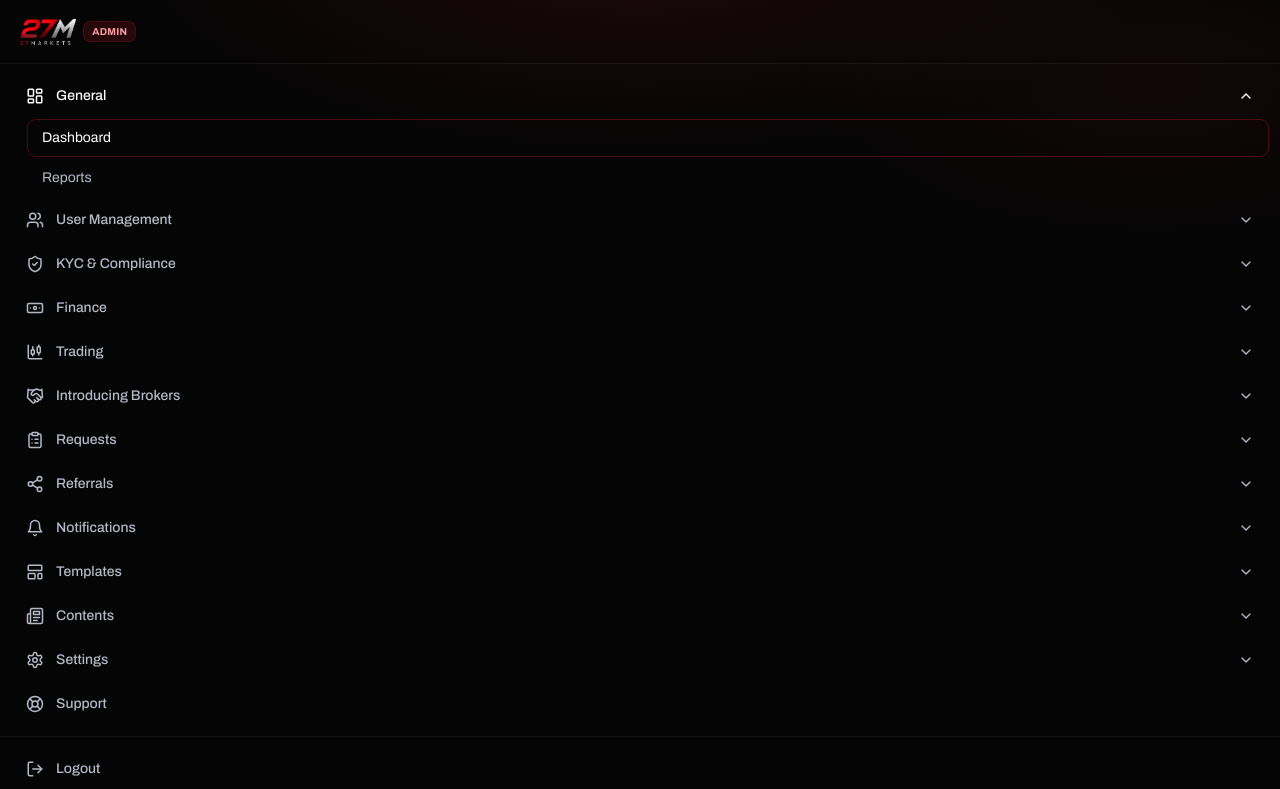
Test case: AdminSidebarContent › toggles a group open and closed on header click
The width and height of the screenshot is (1280, 789).
Expected: the link "Transactions" is not shown
Click the button "Finance". click: x=81, y=308
box: [12,288,1268,328]
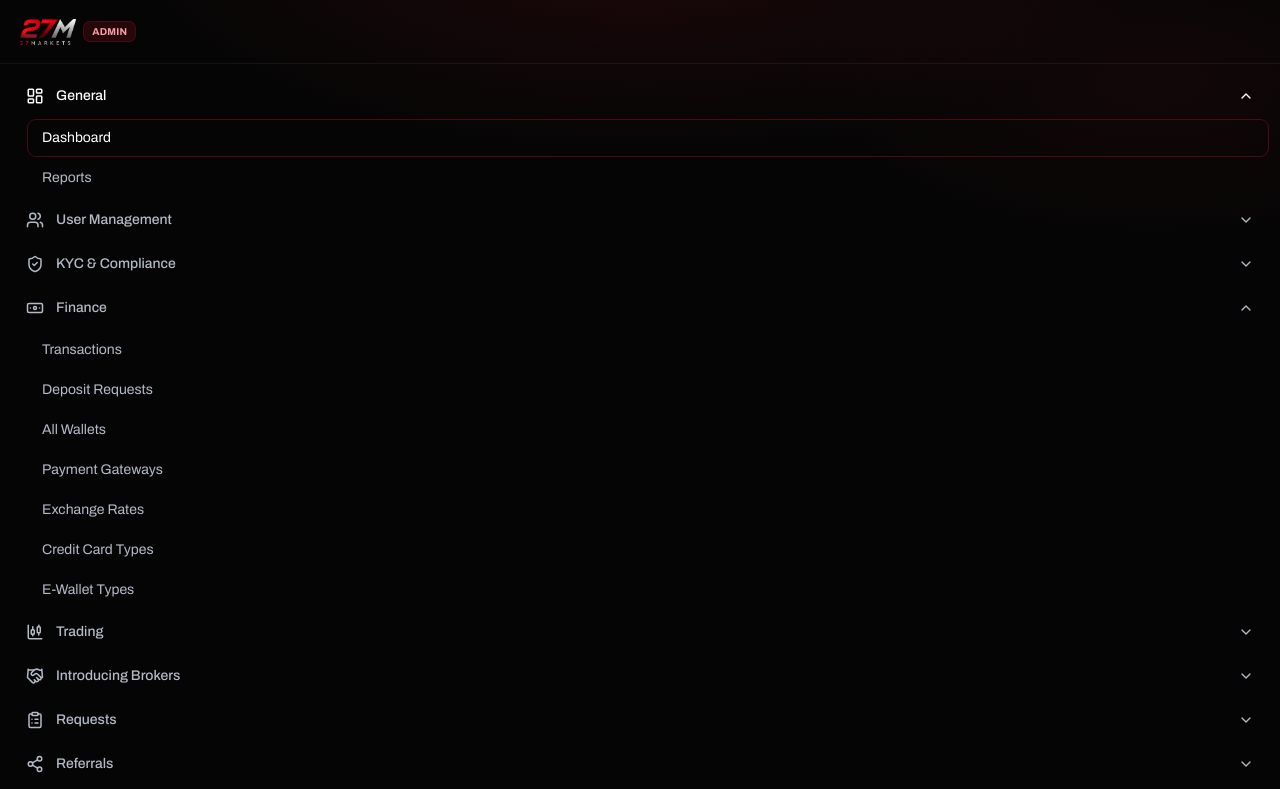
Now the link "Transactions" is shown, box [42,342,122,357]
Click the button "Finance". click: x=81, y=308
box: [12,288,1268,328]
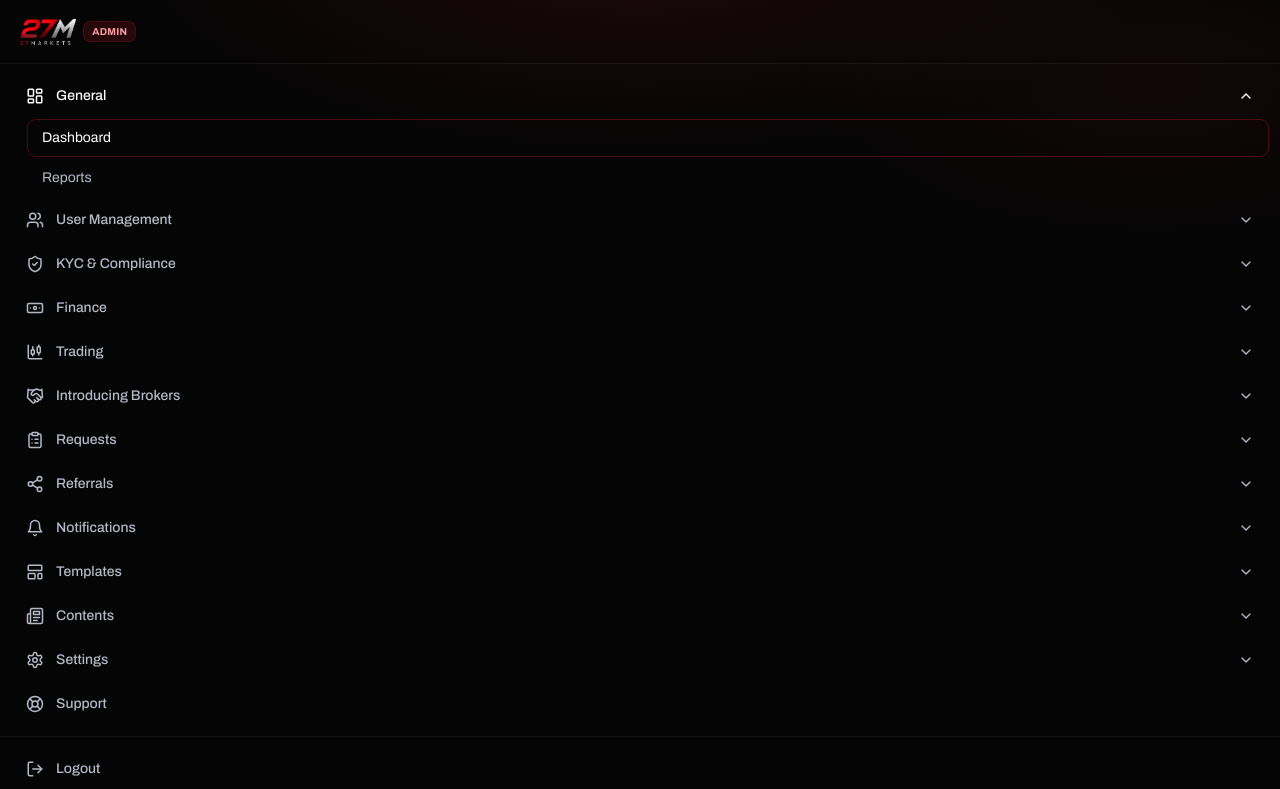
Now the link "Transactions" is gone
